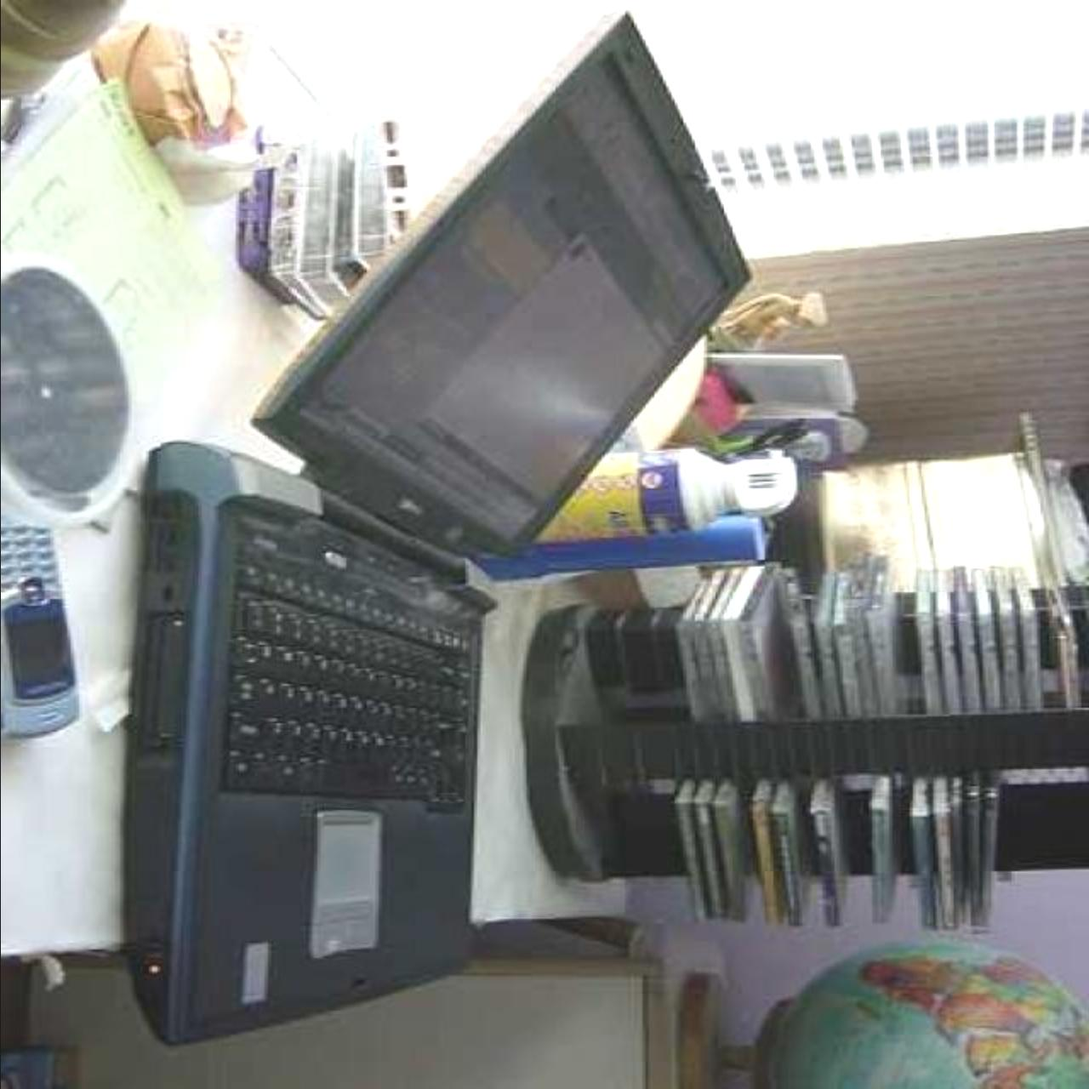laptop: (141, 211, 744, 1031)
